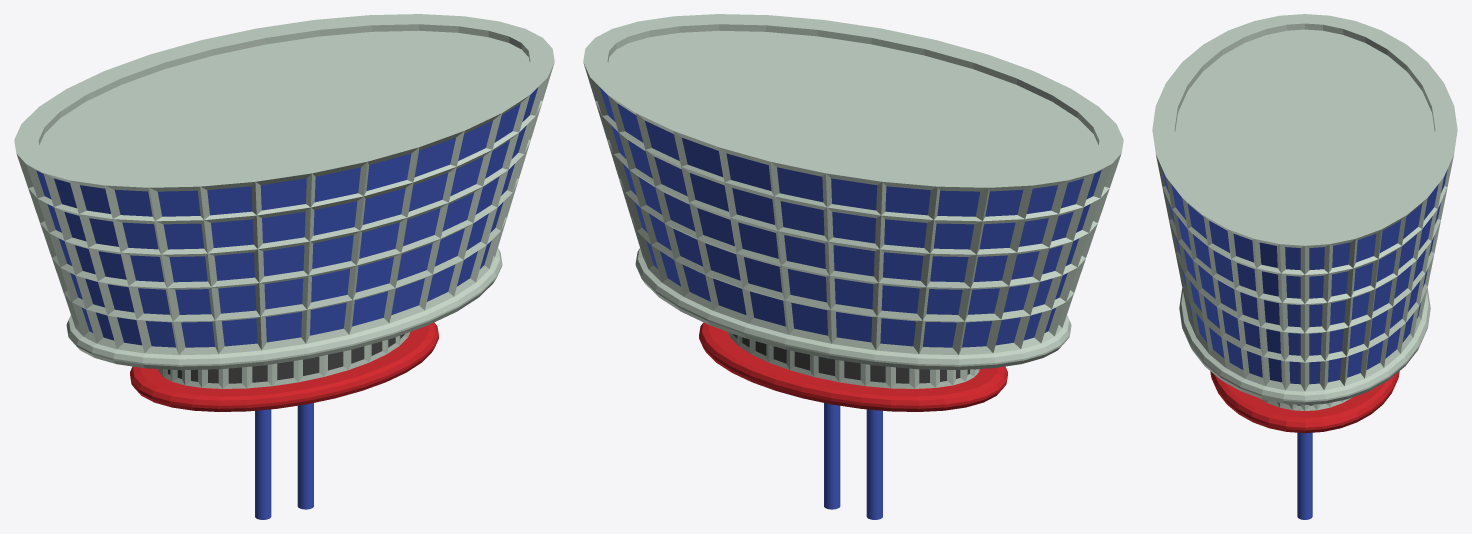
File: BlueHotel.fbx
The picture shows the model from 3 angles, left to right: view 1: azimuth 30°, elevation 25°; view 2: azimuth 150°, elevation 25°; view 3: azimuth 270°, elevation 25°; orthographic projection. The views are drawn at different scales.
Parts seen in each view (by area): view 1: SM_Hotel_Blue_01; view 2: SM_Hotel_Blue_01; view 3: SM_Hotel_Blue_01.
Boxes of the visible parts, x1=… form: SM_Hotel_Blue_01: x1=14, y1=14, x2=554, y2=519; SM_Hotel_Blue_01: x1=583, y1=14, x2=1123, y2=519; SM_Hotel_Blue_01: x1=1152, y1=14, x2=1457, y2=519.
Size of the model in its own units: 4735 by 3593 by 2636.
